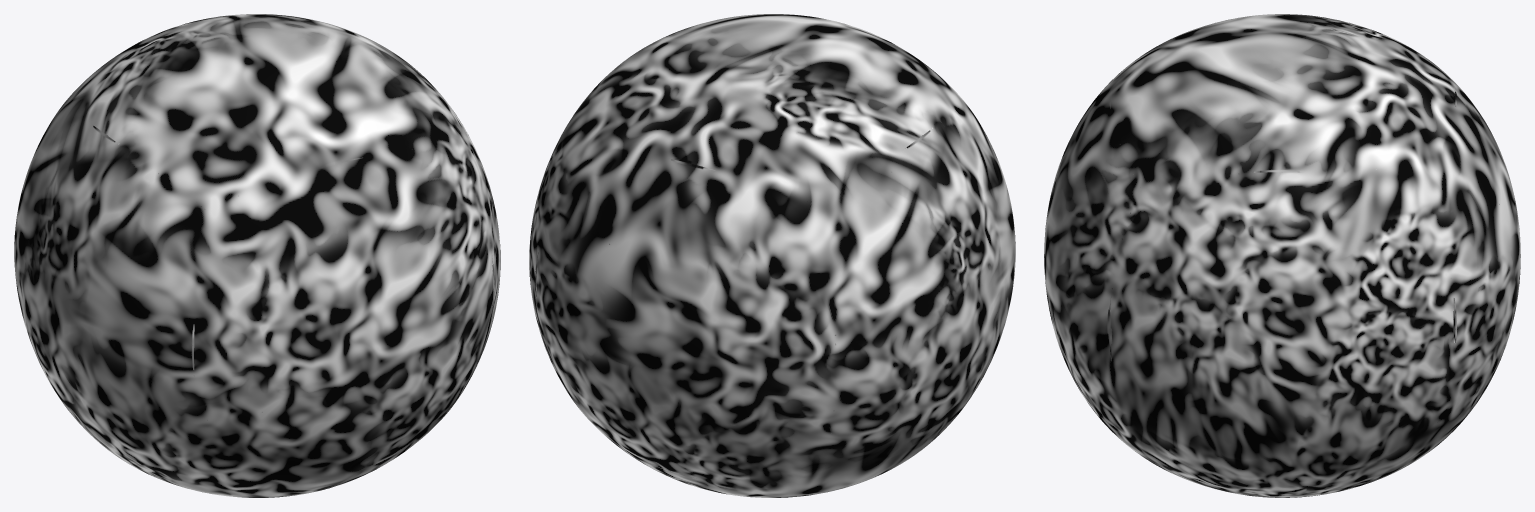
File: ModelPlanety.fbx
The picture shows the model from 3 angles, left to right: view 1: azimuth 30°, elevation 25°; view 2: azimuth 150°, elevation 25°; view 3: azimuth 270°, elevation 25°; orthographic projection.
Visible parts, largest first — view 1: Cube.001; view 2: Cube.001; view 3: Cube.001.
Boxes of the visible parts, <box> form: Cube.001: <box>14,14,500,497</box>; Cube.001: <box>529,14,1015,497</box>; Cube.001: <box>1044,14,1520,497</box>.
Size of the model in its own units: 1674197 by 1674197 by 1674197.
1 material, 1 textured.
